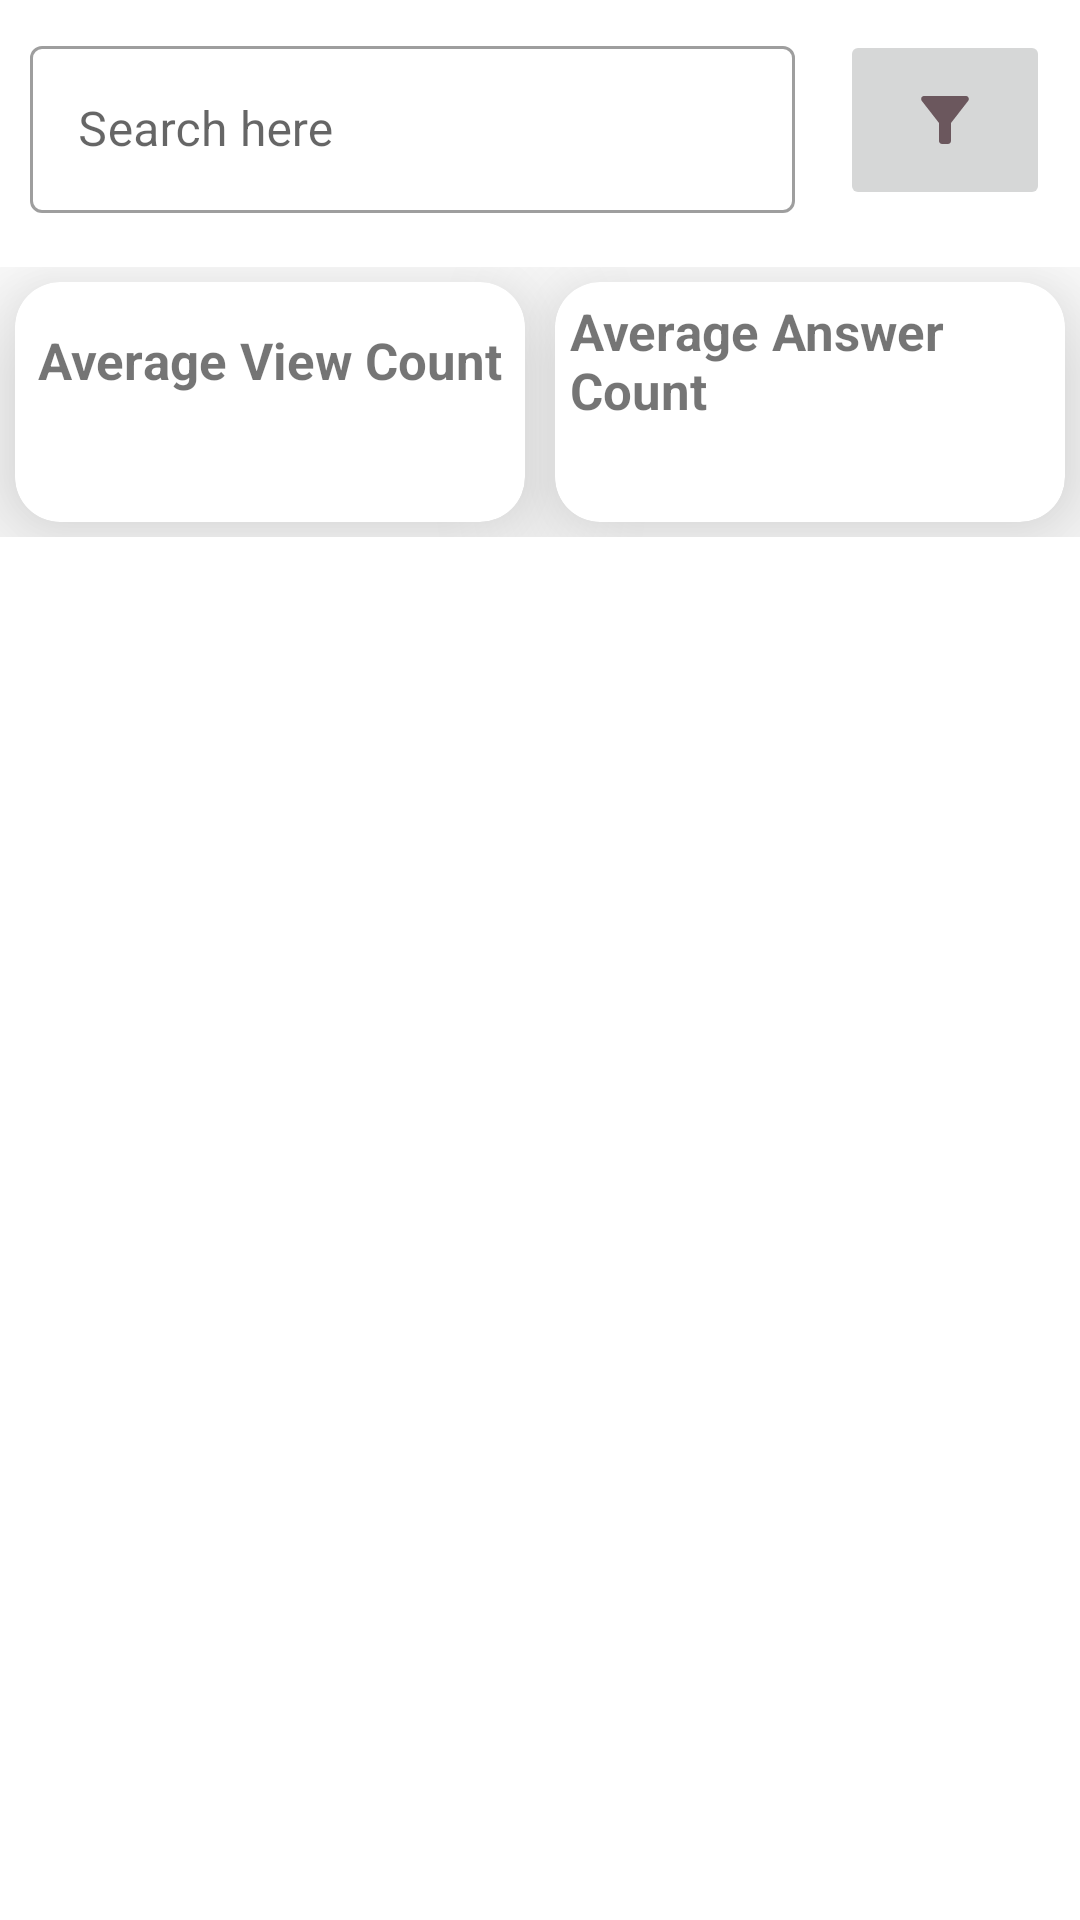

Named icons in this screenshot (1080*1920) and their centers, (x=x, y=y):
filter: (x=945, y=120)
